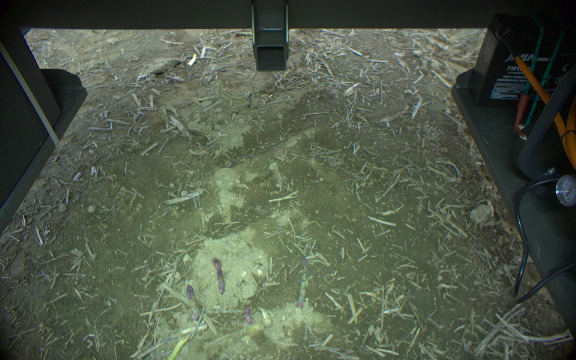aspa: (293, 254, 310, 309), (181, 284, 202, 324), (163, 337, 194, 360), (211, 256, 226, 297), (244, 306, 253, 323)
